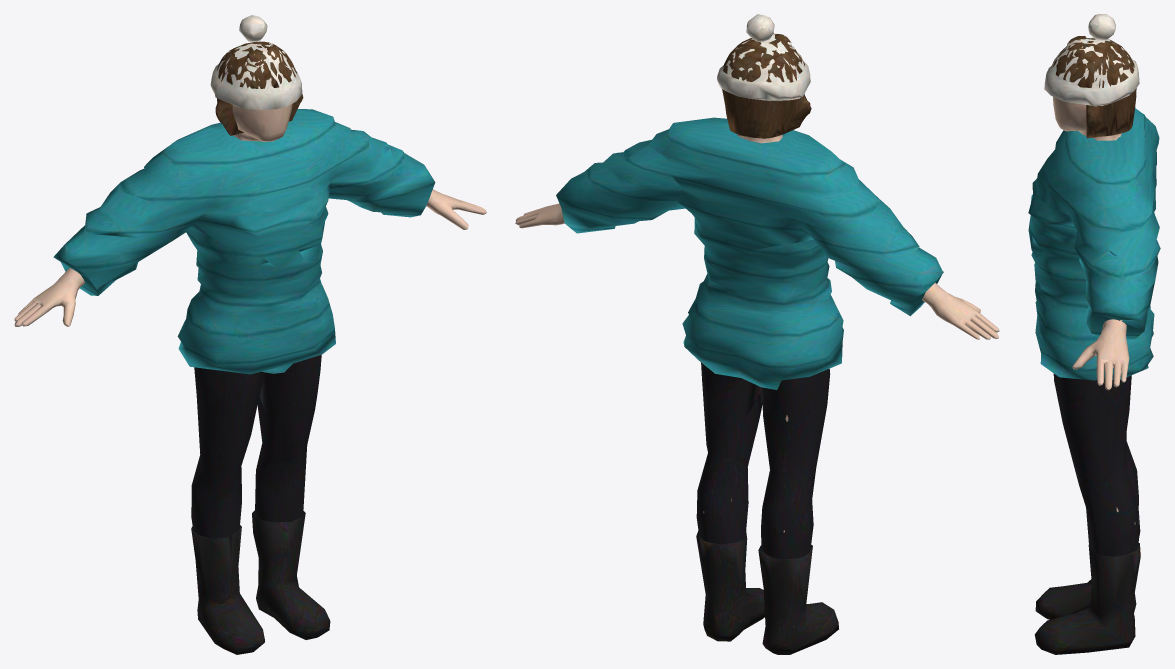
File: npc_x_woman_w3.glb
3 views of the same model, side by side, from view 1: azimuth 30°, elevation 25°; view 2: azimuth 150°, elevation 25°; view 3: azimuth 270°, elevation 25° (orthographic). The views are drawn at different scales.
Visible parts, largest first — view 1: Human; view 2: Human; view 3: Human.
Boxes of the visible parts, x1,y1,x2,y2 form: Human: (14,15,486,654); Human: (515,14,999,654); Human: (1028,14,1160,654).
Size of the model in its own units: 1.43 by 1.77 by 0.3437.
1 material, 1 textured.
